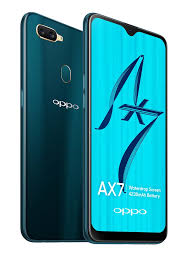oppo: (83, 10, 171, 245), (18, 10, 81, 241)
